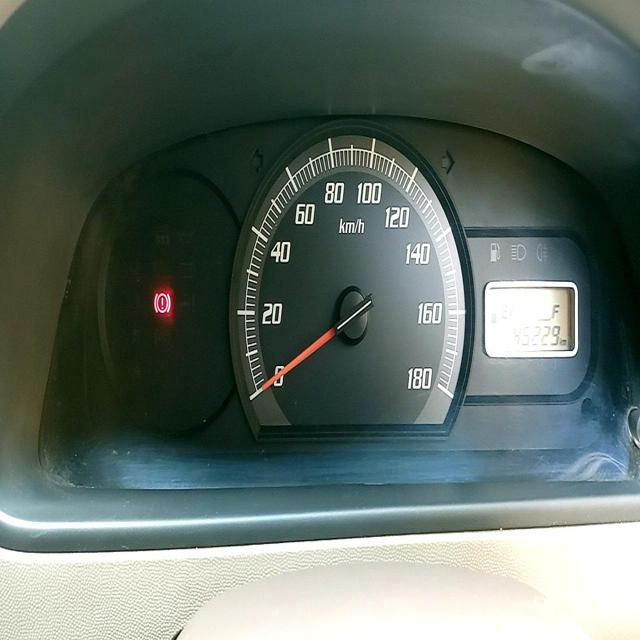odometer: (512, 322, 561, 350)
